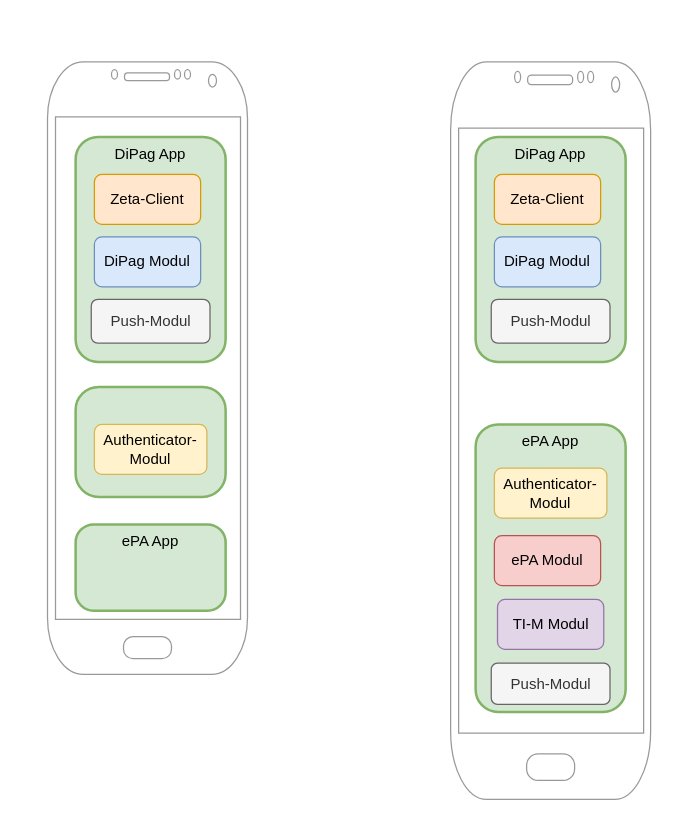
Some shapes in this 684 by 821 pixel diagram are drawn without their labels. The box of each missing label's shape, as (x1, y1, x2, y2) in pixels:
Auth App: (74, 385, 226, 498)
Szenario "Drei Apps - eigene Auth App der Versicherung": (46, 61, 248, 674)
Szenario "Zwei Apps - Auth Funktion in der ePA App": (449, 61, 651, 799)
